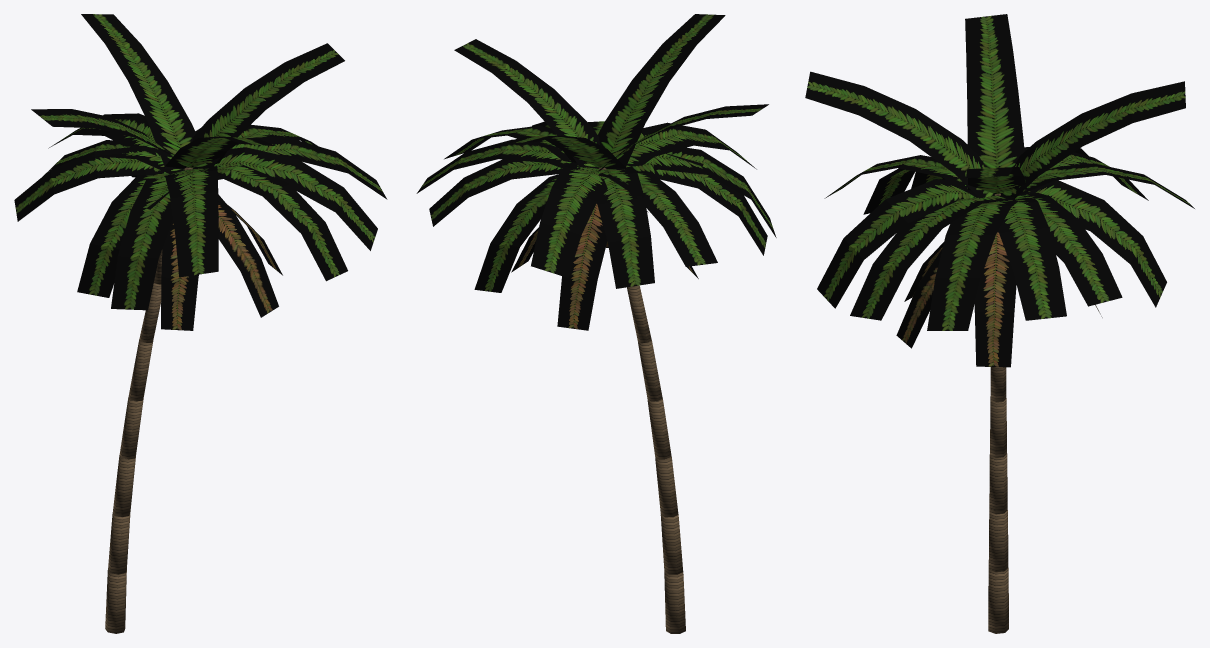
File: palm_coconut.glb
3 views of the same model, side by side, from view 1: azimuth 30°, elevation 25°; view 2: azimuth 150°, elevation 25°; view 3: azimuth 270°, elevation 25° (orthographic). The views are drawn at different scales.
Parts seen in each view (by area): view 1: Palm; view 2: Palm; view 3: Palm.
Boxes of the visible parts, x1,y1,x2,y2 form: Palm: (14,14,387,633); Palm: (416,14,776,633); Palm: (805,14,1194,633).
Bounding box in the file's own units: 7.31 × 11.55 × 7.07.
Materials: 4 (3 with a texture image).
